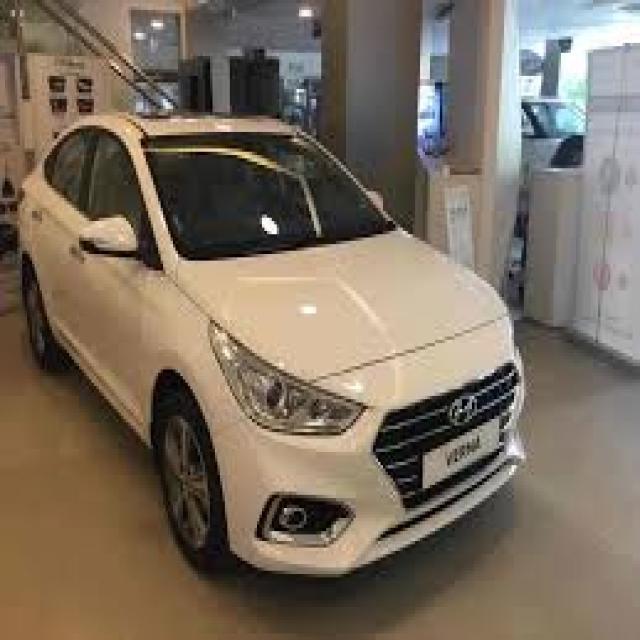car: (21, 115, 524, 573)
